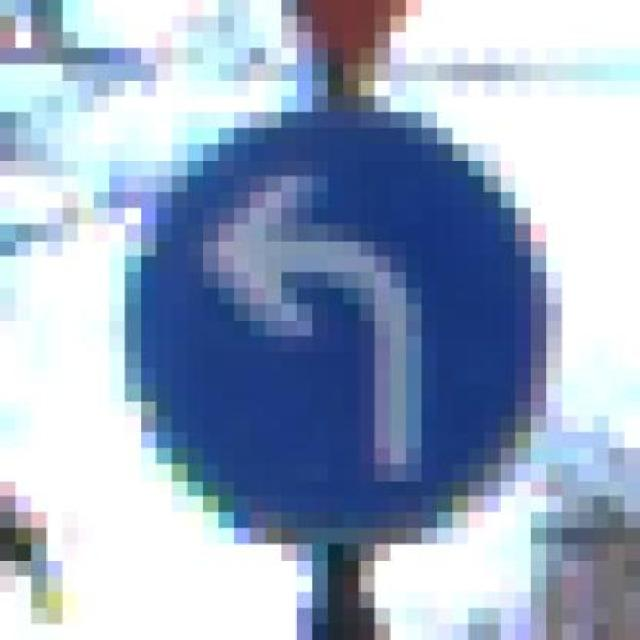Turn left ahead: (93, 80, 578, 545)
